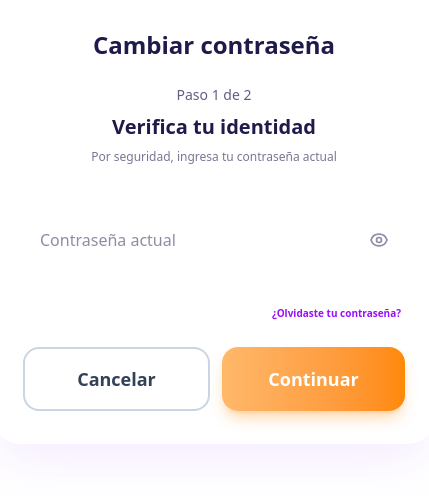
Scenario: ChangePasswordPage step 1 › shows the backend error when the current password is invalid
The image size is (429, 496).
Type "WrongPassword123" into the password field with placeholder "Contraseña actual". click: [214, 240]
box: [23,213,405,267]
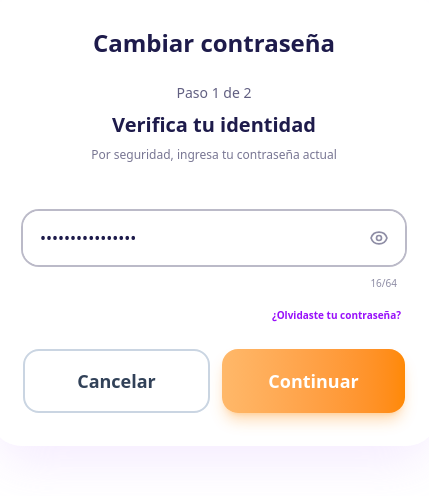
Click the button "Continuar". click: [314, 381]
box: [222,349,405,413]
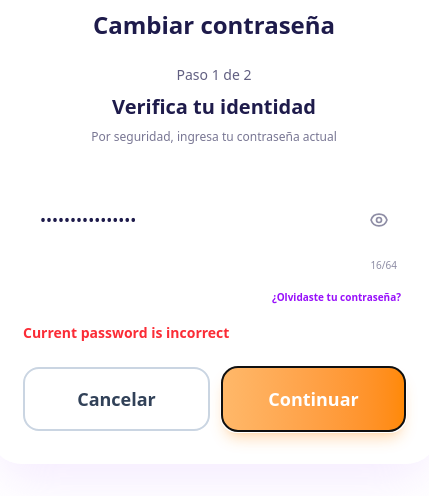
Check: the text "Paso 1 de 2" is shown, box [176,65,252,84]
Check: the message reads "Current password is incorrect", box [23,323,229,342]
